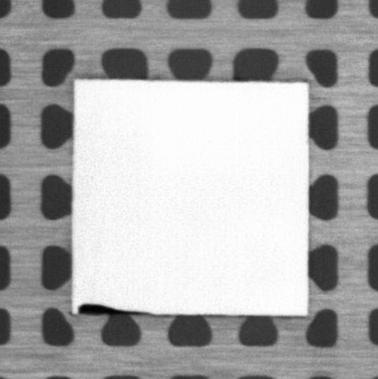DIE_BROKEN: (76, 301, 153, 316)
